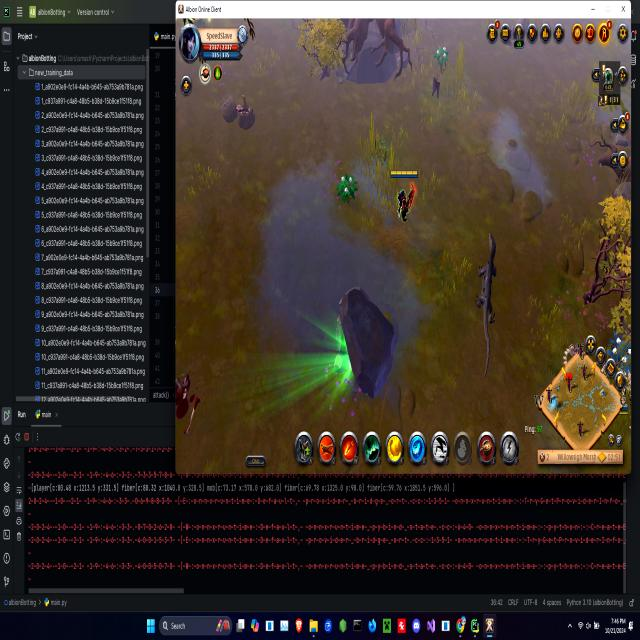hide: (608, 324, 631, 388), (334, 170, 362, 211), (433, 44, 449, 77)
ore: (474, 227, 504, 382)
red: (386, 166, 422, 232)
